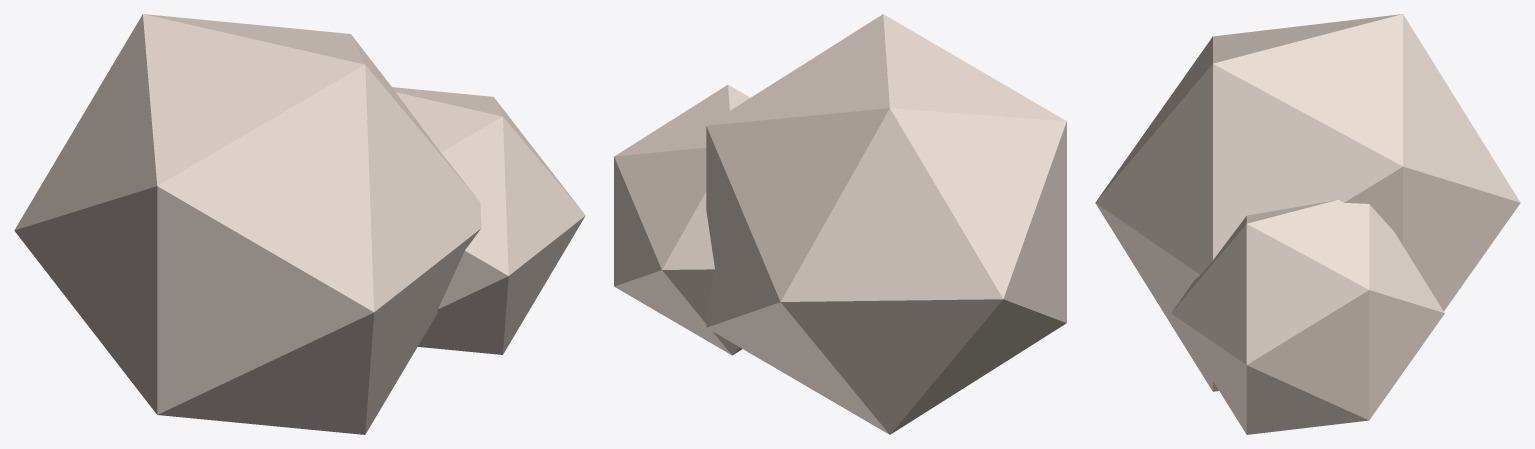
File: Isl_15_Cloud_2.fbx
The picture shows the model from 3 angles, left to right: view 1: azimuth 30°, elevation 25°; view 2: azimuth 150°, elevation 25°; view 3: azimuth 270°, elevation 25°; orthographic projection. The views are drawn at different scales.
Visible parts, largest first — view 1: Isl_15_Cloud_2; view 2: Isl_15_Cloud_2; view 3: Isl_15_Cloud_2.
Part boxes in pixels (x1=…): Isl_15_Cloud_2: x1=14, y1=14, x2=585, y2=434; Isl_15_Cloud_2: x1=614, y1=14, x2=1066, y2=434; Isl_15_Cloud_2: x1=1095, y1=14, x2=1520, y2=434.
Bounding box in the file's own units: 536 × 462 × 393.
Materials: 1 (1 with a texture image).
